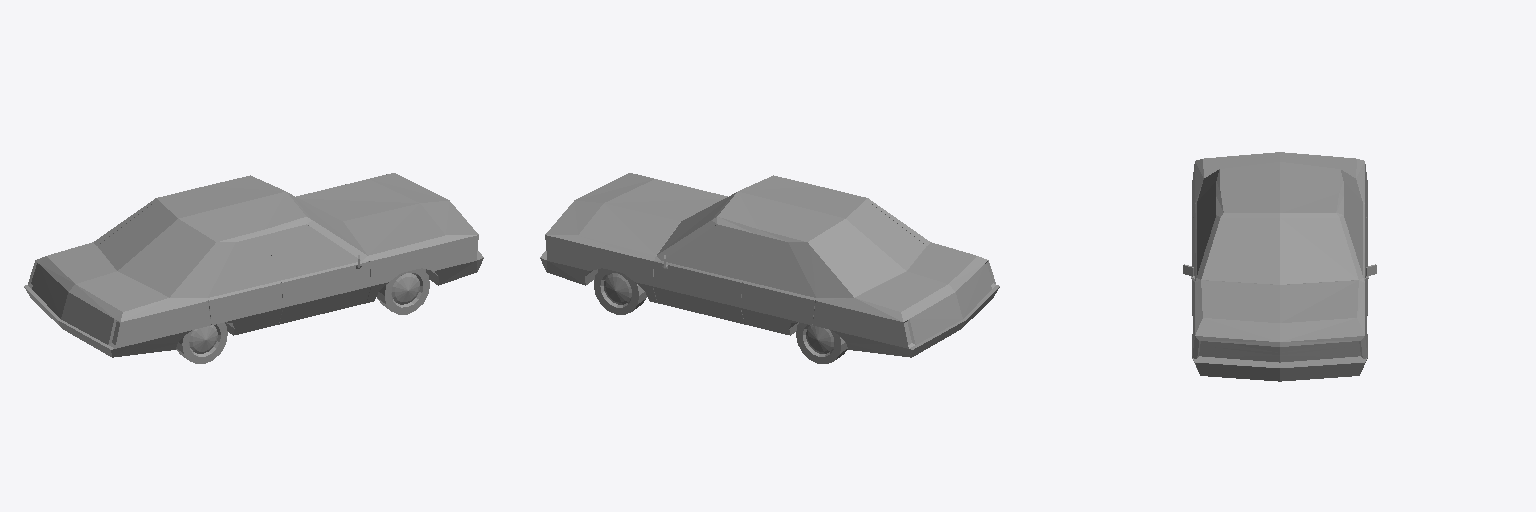
The model's file is Sedan_A_beige2.obj.
The picture shows the model from 3 angles: view 1: azimuth 30°, elevation 25°; view 2: azimuth 150°, elevation 25°; view 3: azimuth 270°, elevation 25°; orthographic projection.
Parts seen in each view (by area): view 1: SedanA_Body, SedanA_DoorR, SedanA_DoorR2, Sedan_A_wheelFR, Sedan_A_wheelRR; view 2: SedanA_Body, SedanA_DoorL, SedanA_DoorL2, Sedan_A_wheelFL, Sedan_A_wheelRL; view 3: SedanA_Body, SedanA_DoorL, SedanA_DoorR, SedanA_DoorL2, SedanA_DoorR2.
Boxes of the visible parts, <box> form: SedanA_Body: <box>24,173,483,357</box>; SedanA_DoorR: <box>269,224,370,324</box>; SedanA_DoorR2: <box>208,235,282,335</box>; Sedan_A_wheelFR: <box>377,268,429,314</box>; Sedan_A_wheelRR: <box>176,322,227,363</box>; SedanA_Body: <box>540,173,999,357</box>; SedanA_DoorL: <box>653,224,754,324</box>; SedanA_DoorL2: <box>741,235,815,335</box>; Sedan_A_wheelFL: <box>594,268,646,314</box>; Sedan_A_wheelRL: <box>796,322,847,363</box>; SedanA_Body: <box>1192,152,1367,381</box>; SedanA_DoorL: <box>1344,198,1376,304</box>; SedanA_DoorR: <box>1183,198,1215,304</box>; SedanA_DoorL2: <box>1344,182,1367,261</box>; SedanA_DoorR2: <box>1192,182,1215,261</box>.
Size of the model in its own units: 4.48 by 1.24 by 1.91.